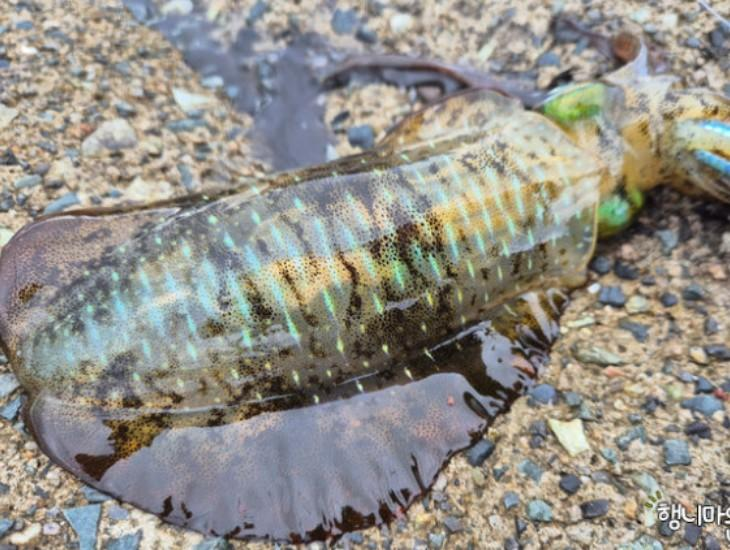Cephalopod: (0, 36, 729, 542)
